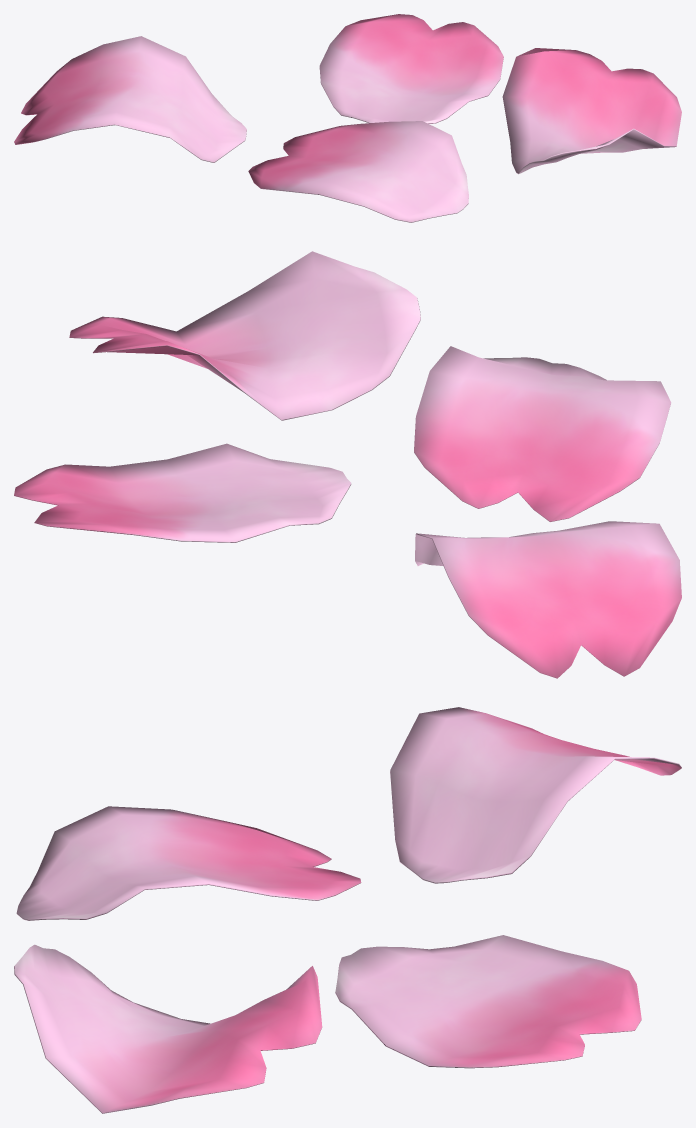
Rendered from sakurahanabira.fbx.
The picture shows the model from 3 angles, top to bottom: view 1: azimuth 30°, elevation 25°; view 2: azimuth 150°, elevation 25°; view 3: azimuth 270°, elevation 25°; orthographic projection. The views are drawn at different scales.
Parts seen in each view (by area): view 1: hanabira, hanabira.002, hanabira.003, hanabira.001; view 2: hanabira.001, hanabira.002, hanabira, hanabira.003; view 3: hanabira.003, hanabira, hanabira.002, hanabira.001.
Part boxes in pixels (bbox=[...]): hanabira: bbox=[14, 36, 246, 162]; hanabira.002: bbox=[502, 48, 681, 174]; hanabira.003: bbox=[319, 14, 503, 123]; hanabira.001: bbox=[248, 121, 468, 222]; hanabira.001: bbox=[414, 346, 671, 521]; hanabira.002: bbox=[69, 251, 420, 420]; hanabira: bbox=[415, 521, 681, 678]; hanabira.003: bbox=[14, 443, 351, 542]; hanabira.003: bbox=[335, 935, 641, 1068]; hanabira: bbox=[390, 707, 681, 883]; hanabira.002: bbox=[14, 944, 322, 1113]; hanabira.001: bbox=[16, 806, 361, 920].
Size of the model in its own units: 47.06 by 6.21 by 35.61.
Materials: 1 (1 with a texture image).
